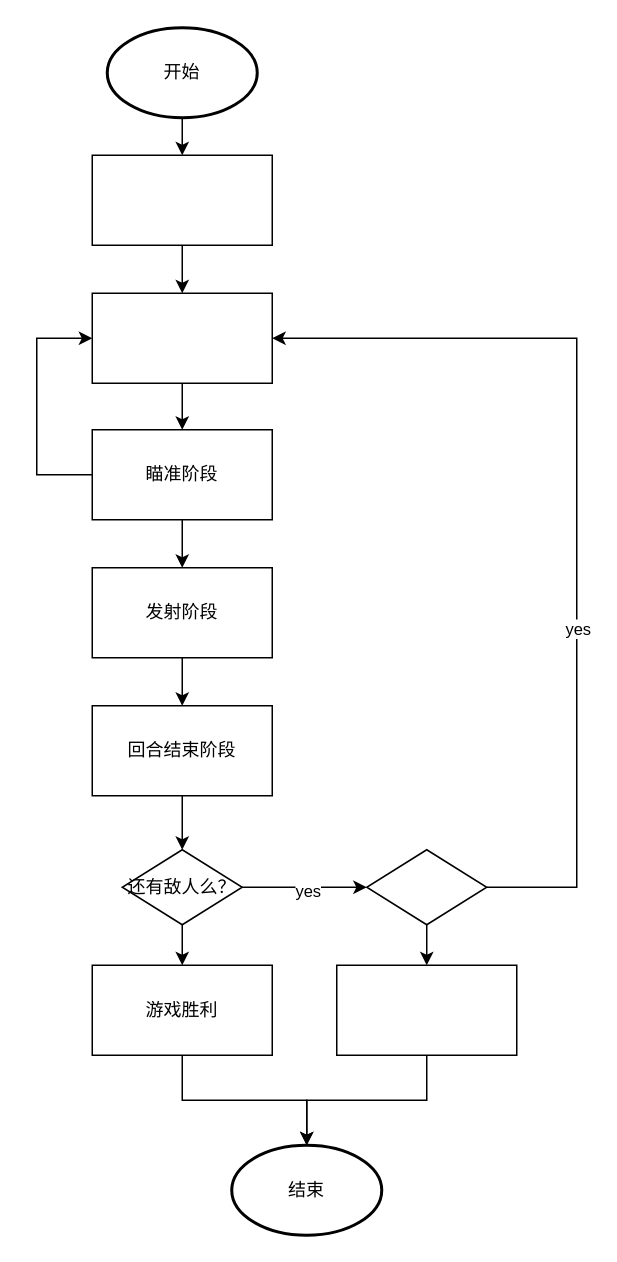
The diagram is 617 pixels wide and 1262 high, and some of its shapes have lost their labels. The centre of each missing label's shape, as x and y in pixels:
"ready准备阶段" belongs at (x=181, y=199).
"wait等待阶段" belongs at (x=181, y=337).
"游戏失败" belongs at (x=426, y=1009).
"还有子弹吗？" belongs at (x=426, y=886).
